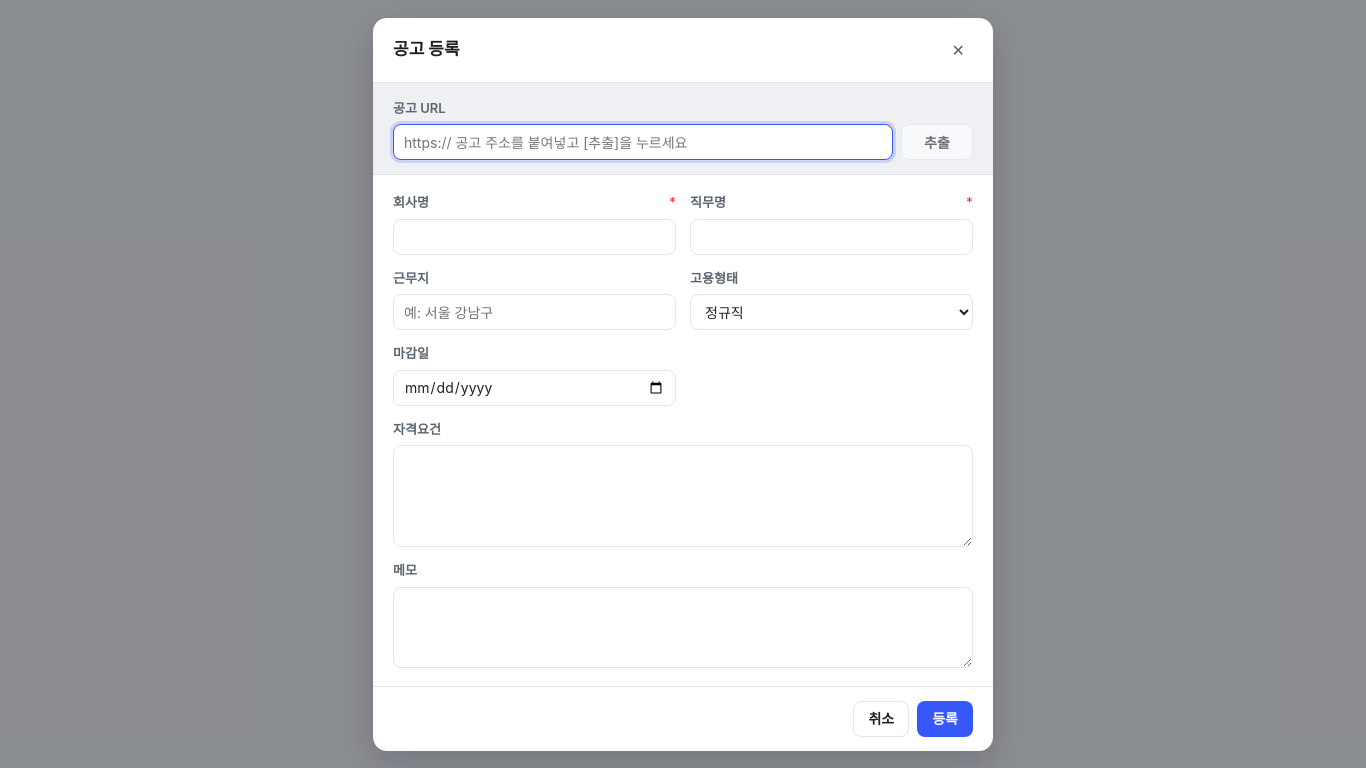
공고 등록 폼 — URL 자동 추출 › 추출 결과로 칸을 채우고(저장은 하지 않음) 채운 칸·못 찾은 칸을 표시한다
Step 1. Type "https://www.saramin.co.kr/x" into the field labelled "공고 URL 추출" → (643, 142), box [393,124,893,160]
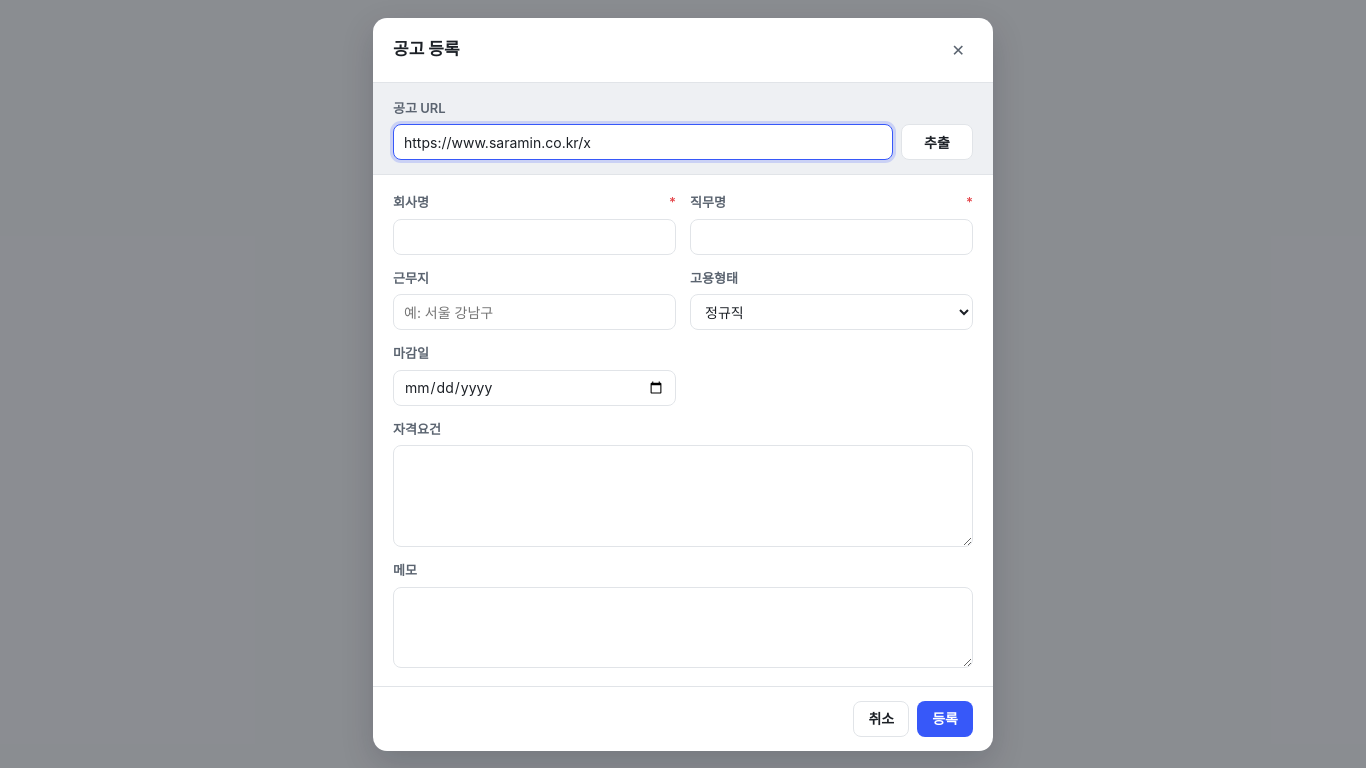
Step 2. Click the button "추출" → (937, 142), box [901,124,973,160]
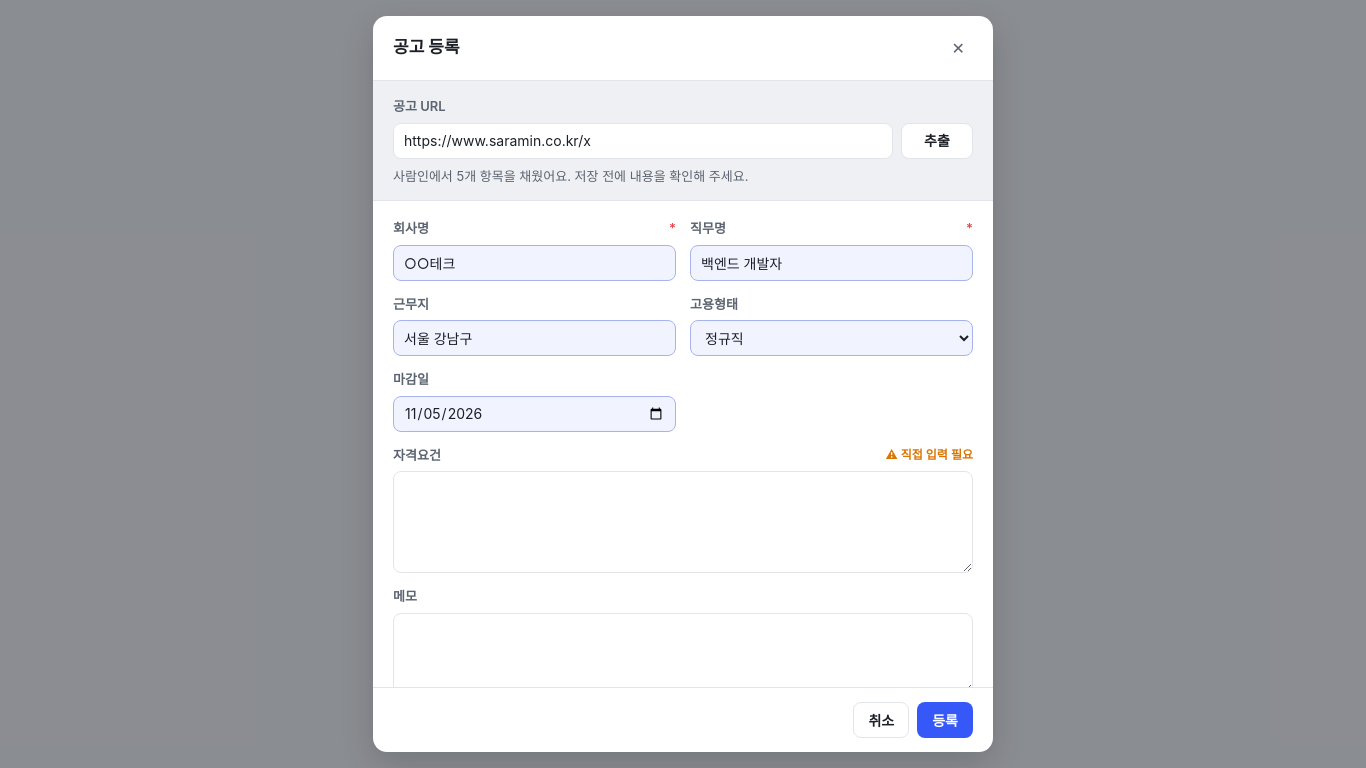
Result: the field showing "○○테크" is shown at [393,244,676,280]
Result: the field labelled "근무지" holds "서울 강남구" at [393,320,676,356]
Result: the date field labelled "마감일" holds "2026-11-05" at [393,396,676,432]
